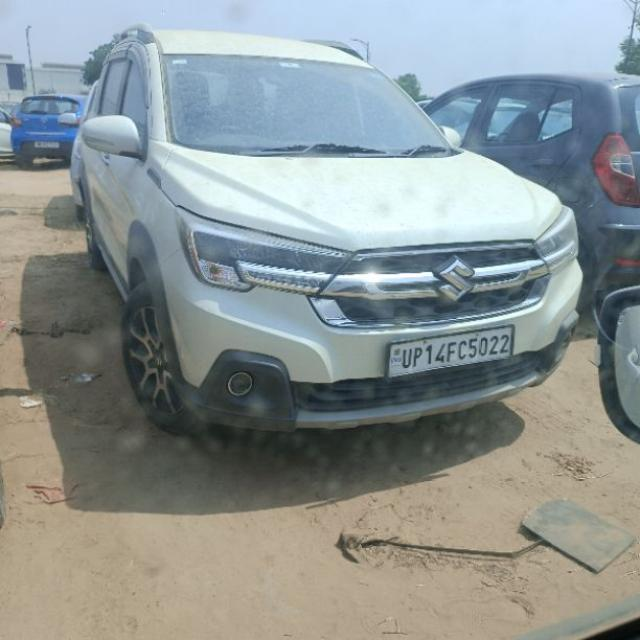license_plate: (386, 323, 514, 379)
